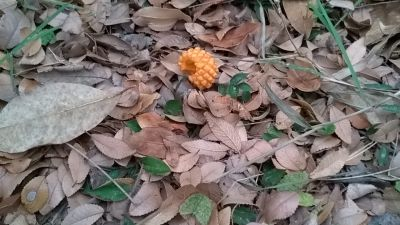eggs: (179, 48, 220, 89)
